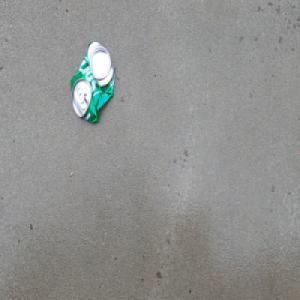SodaCan: (69, 38, 116, 125)
